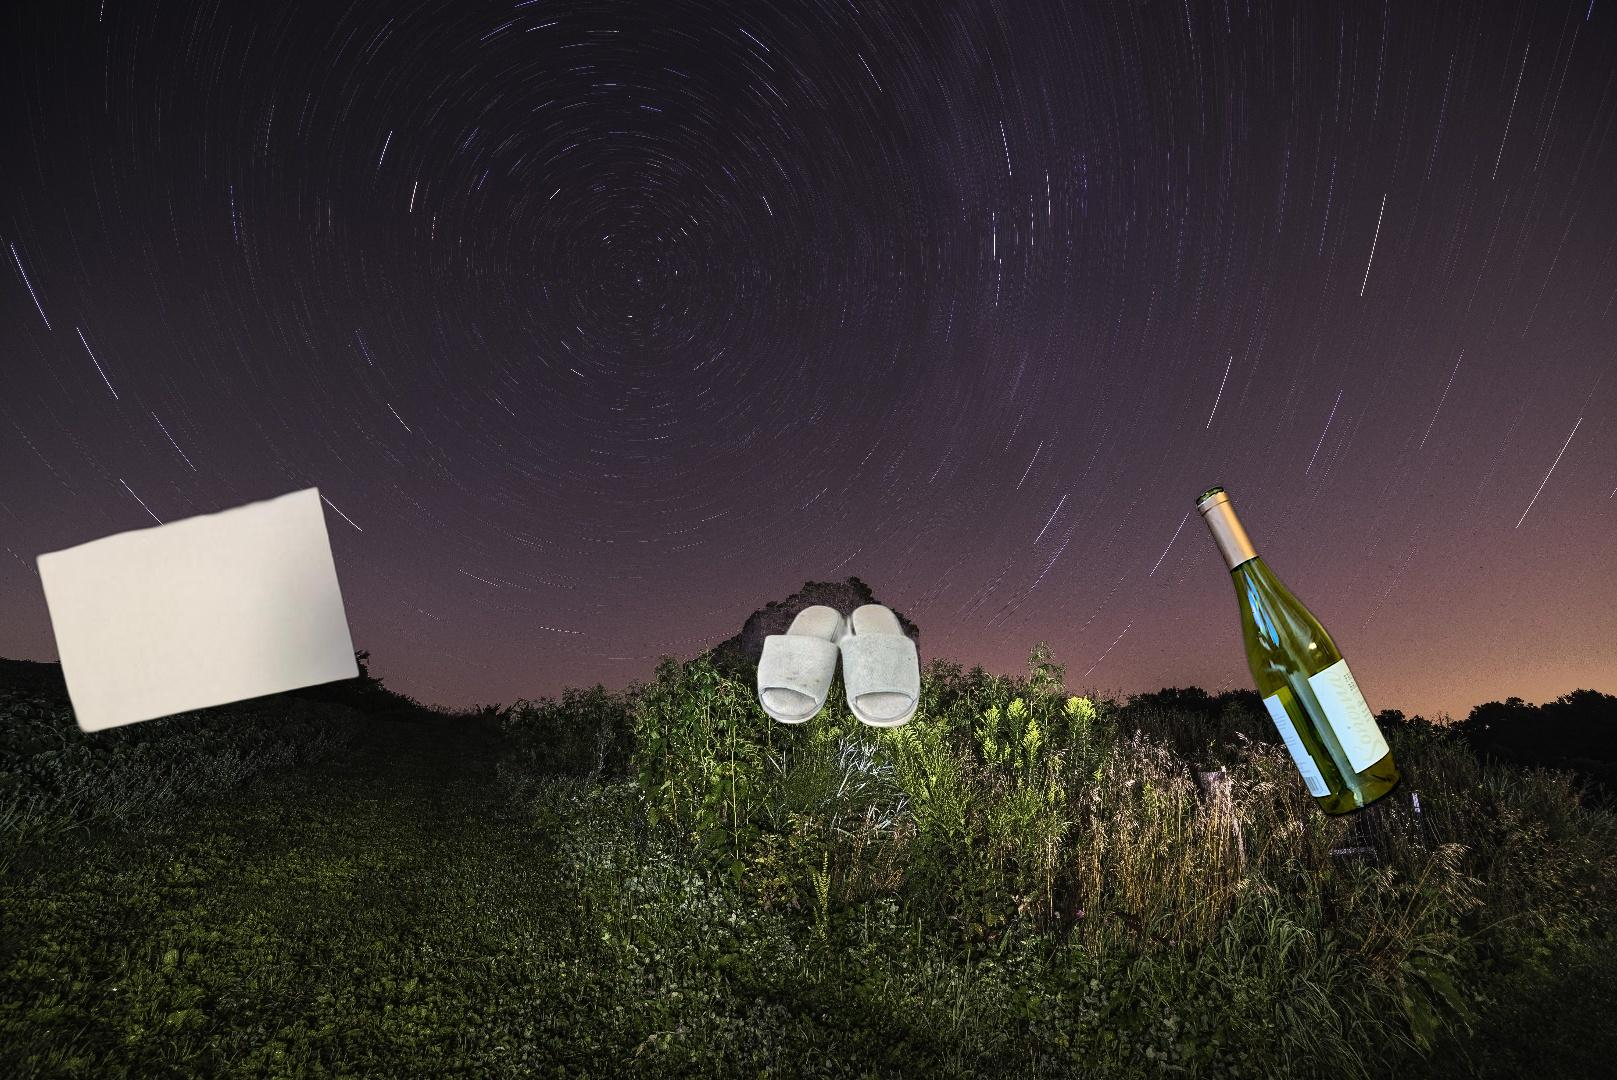glass: (1190, 479, 1406, 824)
metal-cans: (855, 1073, 959, 1080)
paper: (31, 482, 364, 736)
shoes: (754, 601, 923, 730)
